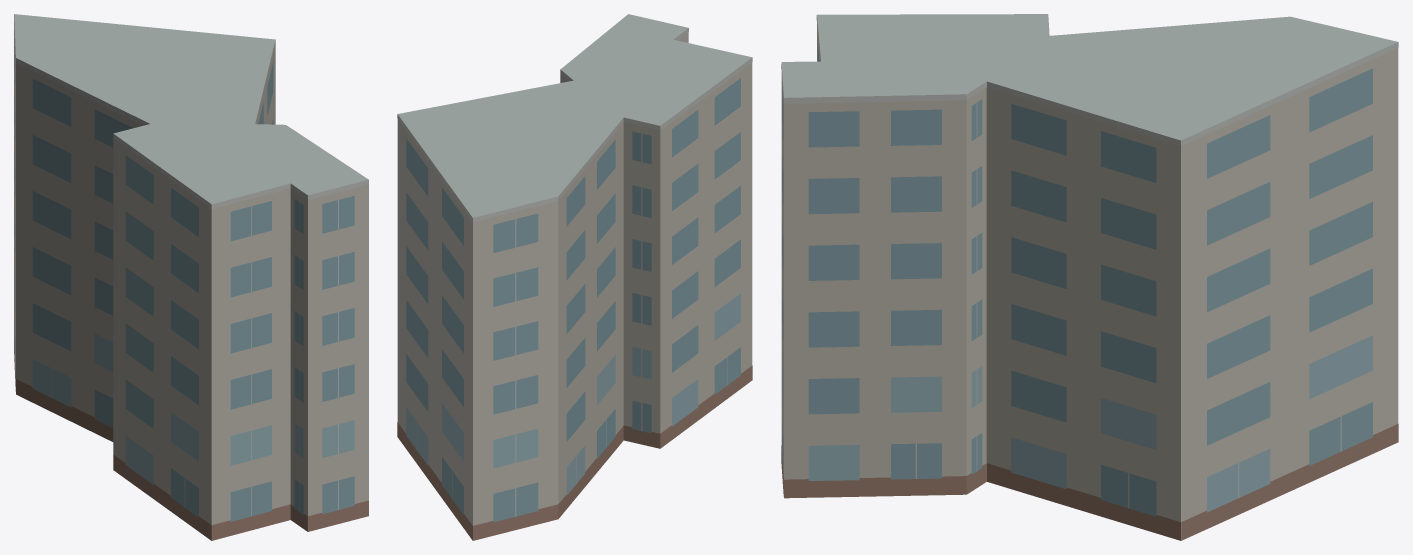
File: survey-upis-32802807.glb
The picture shows the model from 3 angles, left to right: view 1: azimuth 30°, elevation 25°; view 2: azimuth 150°, elevation 25°; view 3: azimuth 270°, elevation 25°; orthographic projection. The views are drawn at different scales.
Parts seen in each view (by area): view 1: survey-upis-32802807.tmp; view 2: survey-upis-32802807.tmp; view 3: survey-upis-32802807.tmp.
Part boxes in pixels (x1,y1,x2,y2): survey-upis-32802807.tmp: [14, 14, 368, 540]; survey-upis-32802807.tmp: [397, 14, 752, 540]; survey-upis-32802807.tmp: [781, 14, 1398, 540].
Bounding box in the file's own units: 11.44 × 16.85 × 23.55.
